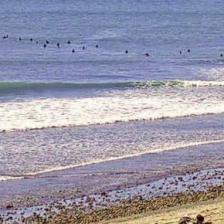surfer: (143, 52, 151, 56), (2, 34, 8, 38), (68, 40, 72, 44), (82, 46, 86, 50), (42, 44, 47, 47), (57, 43, 60, 48), (36, 41, 40, 44), (46, 40, 49, 44), (72, 48, 75, 52), (125, 50, 128, 54), (30, 38, 33, 41), (95, 45, 98, 48), (187, 49, 190, 52), (19, 37, 21, 41), (179, 50, 181, 54), (220, 54, 223, 56)
